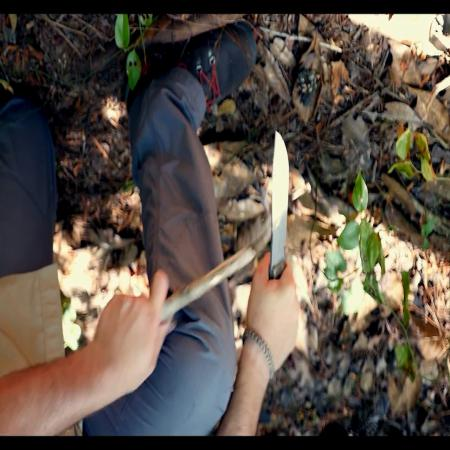long weapon: (250, 126, 302, 320)
